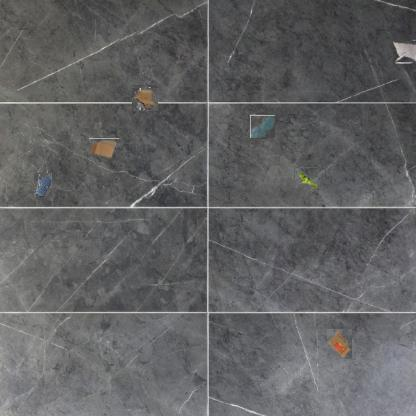dirty: (326, 330, 354, 358), (133, 85, 158, 111), (90, 138, 119, 159), (393, 40, 416, 63), (294, 167, 318, 189)
liquid: (250, 114, 274, 139), (34, 173, 52, 197)
